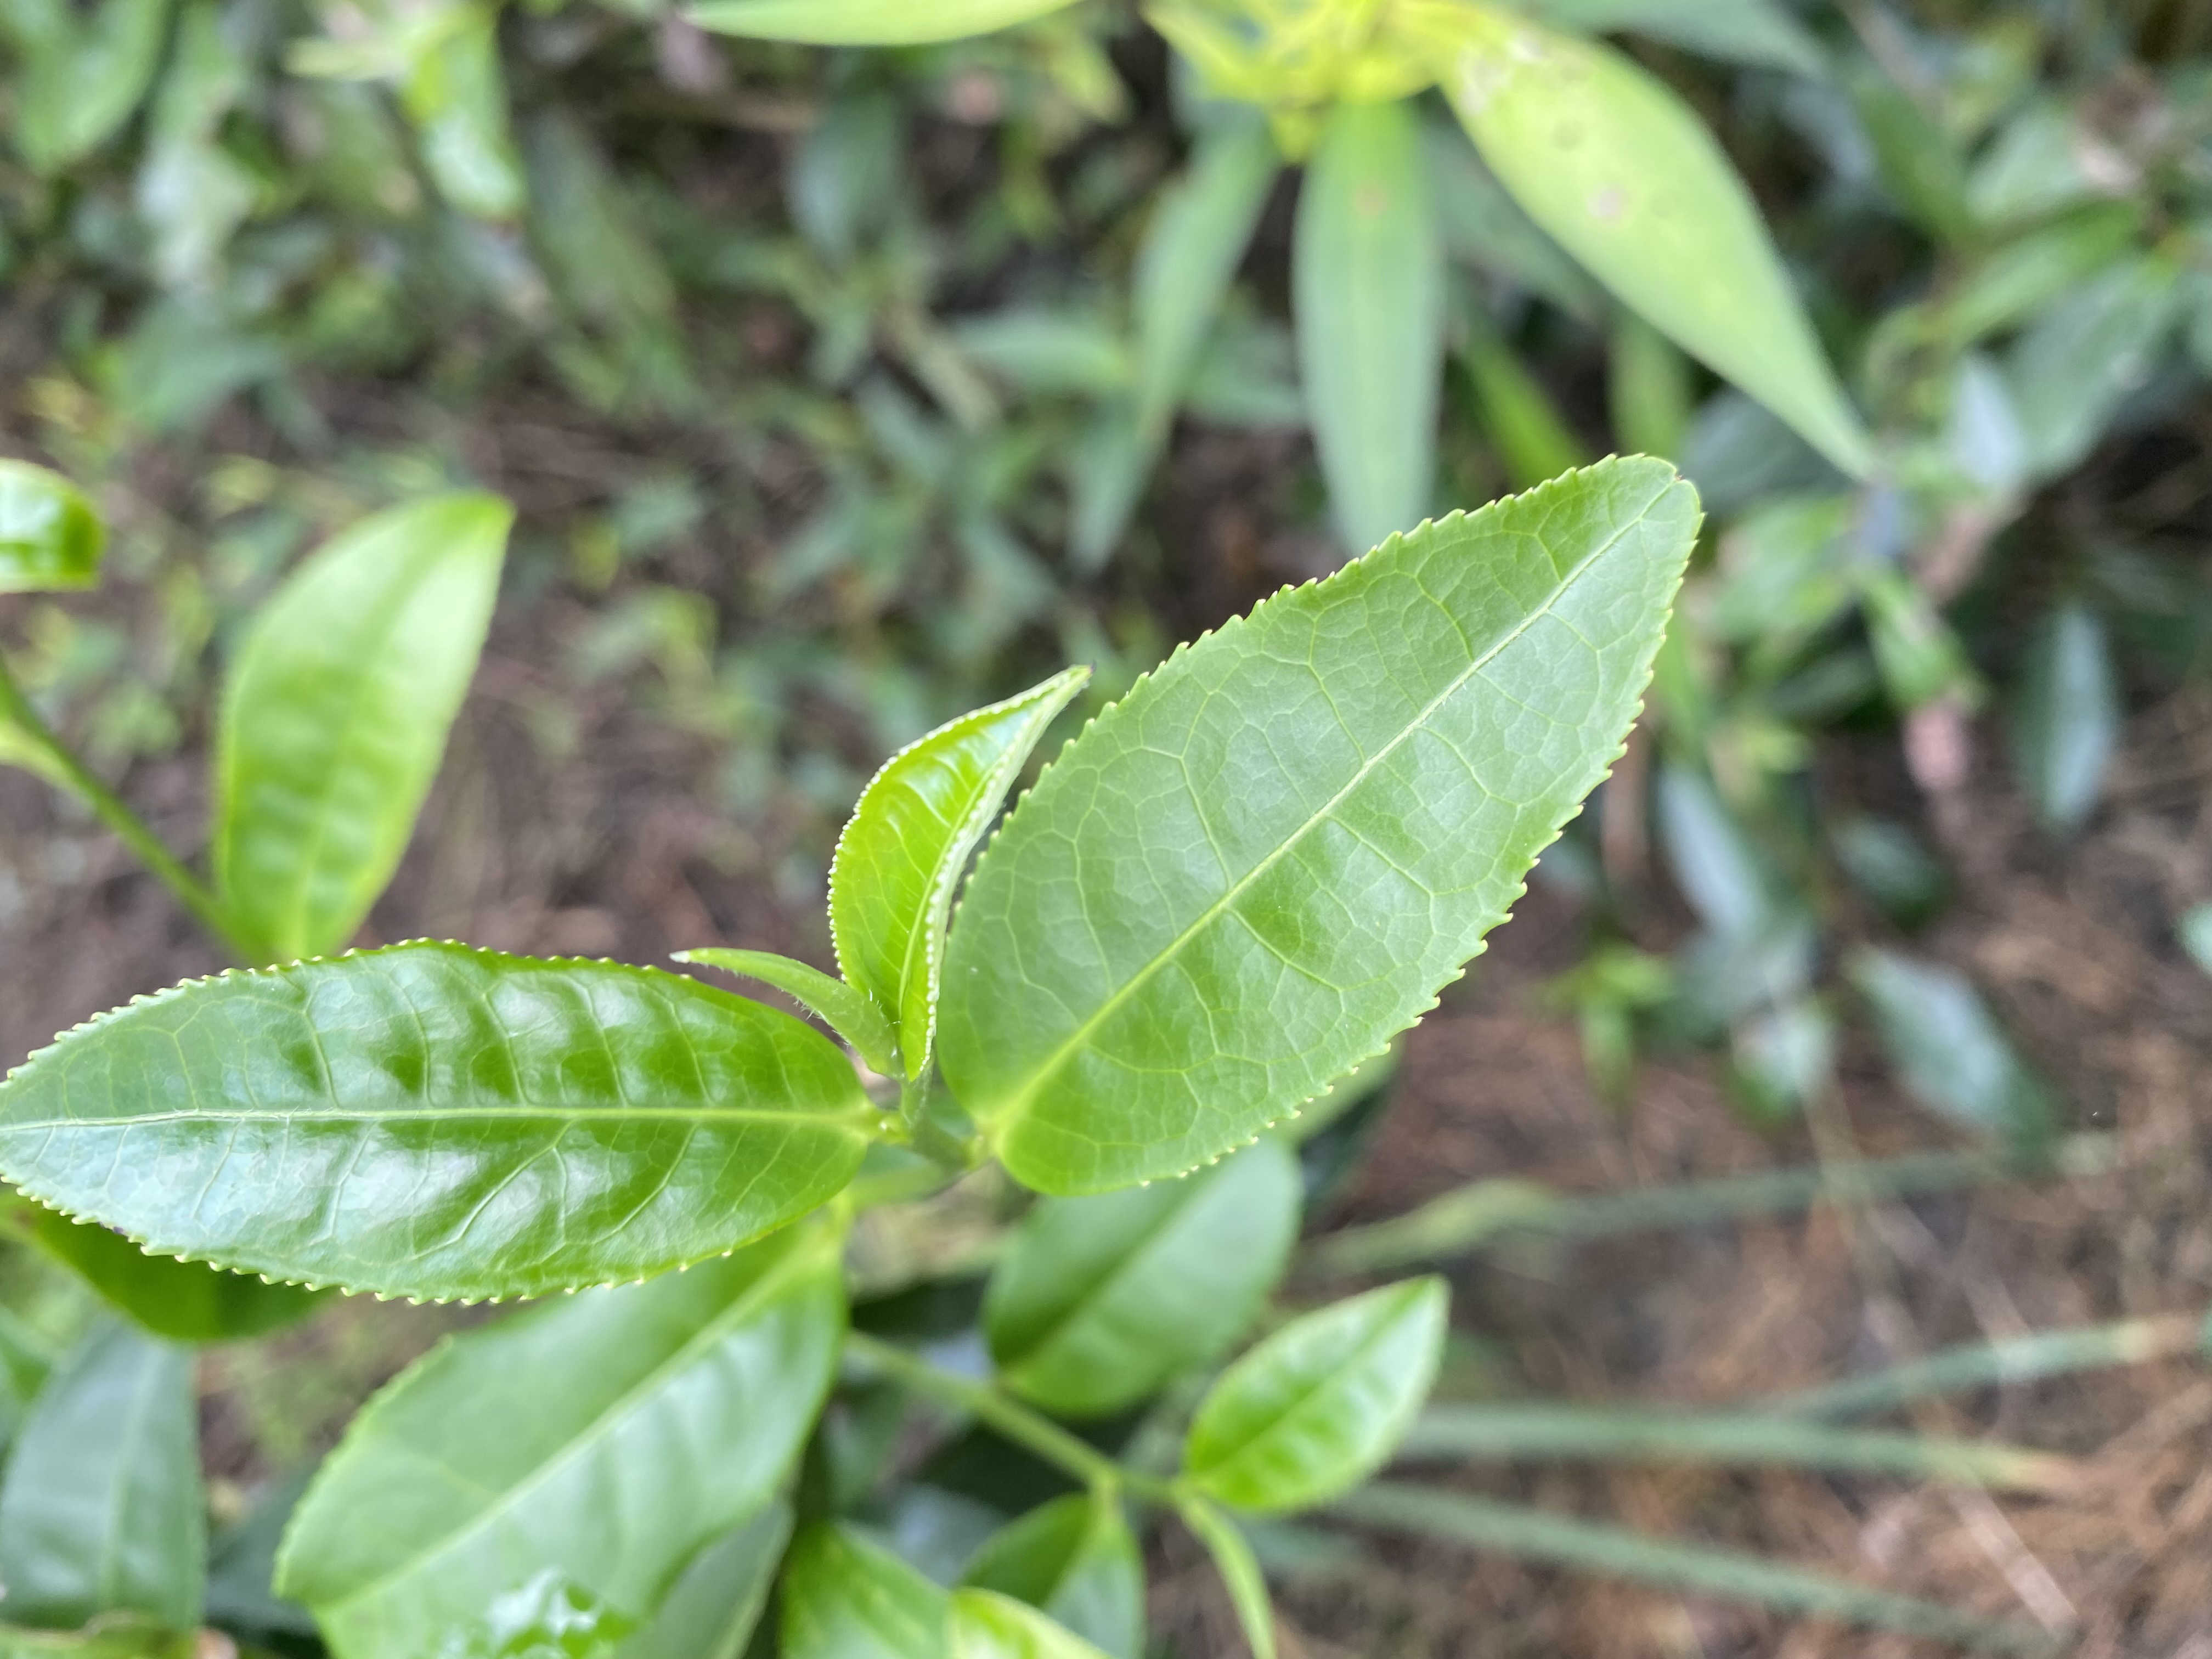healthy: (937, 450, 1707, 1201), (3, 938, 880, 1305), (824, 664, 1094, 1086)
